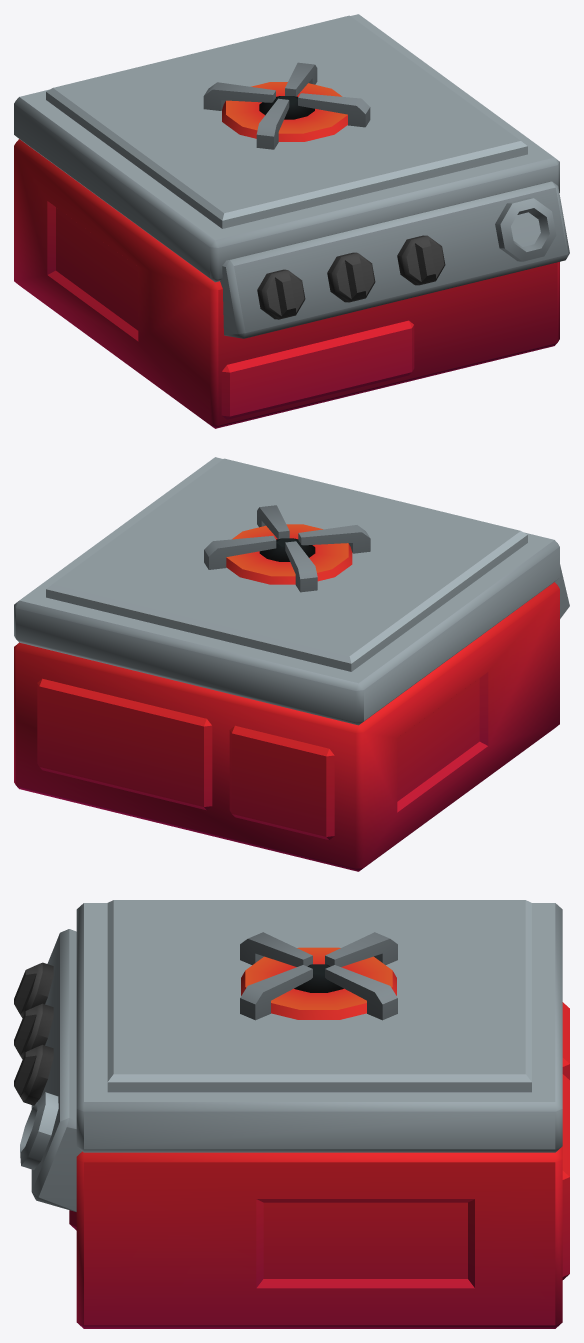
File: stove 1.glb
3 views of the same model, one above another, from view 1: azimuth 30°, elevation 25°; view 2: azimuth 150°, elevation 25°; view 3: azimuth 270°, elevation 25° (orthographic). The views are drawn at different scales.
Parts seen in each view (by area): view 1: stove_multi; view 2: stove_multi; view 3: stove_multi.
Boxes of the visible parts, box(x1,y1,x2,y2) form: stove_multi: box(14, 14, 569, 428); stove_multi: box(14, 457, 569, 871); stove_multi: box(14, 900, 569, 1328).
Bounding box in the file's own units: 2 × 1.21 × 2.29.
Materials: 1 (1 with a texture image).
